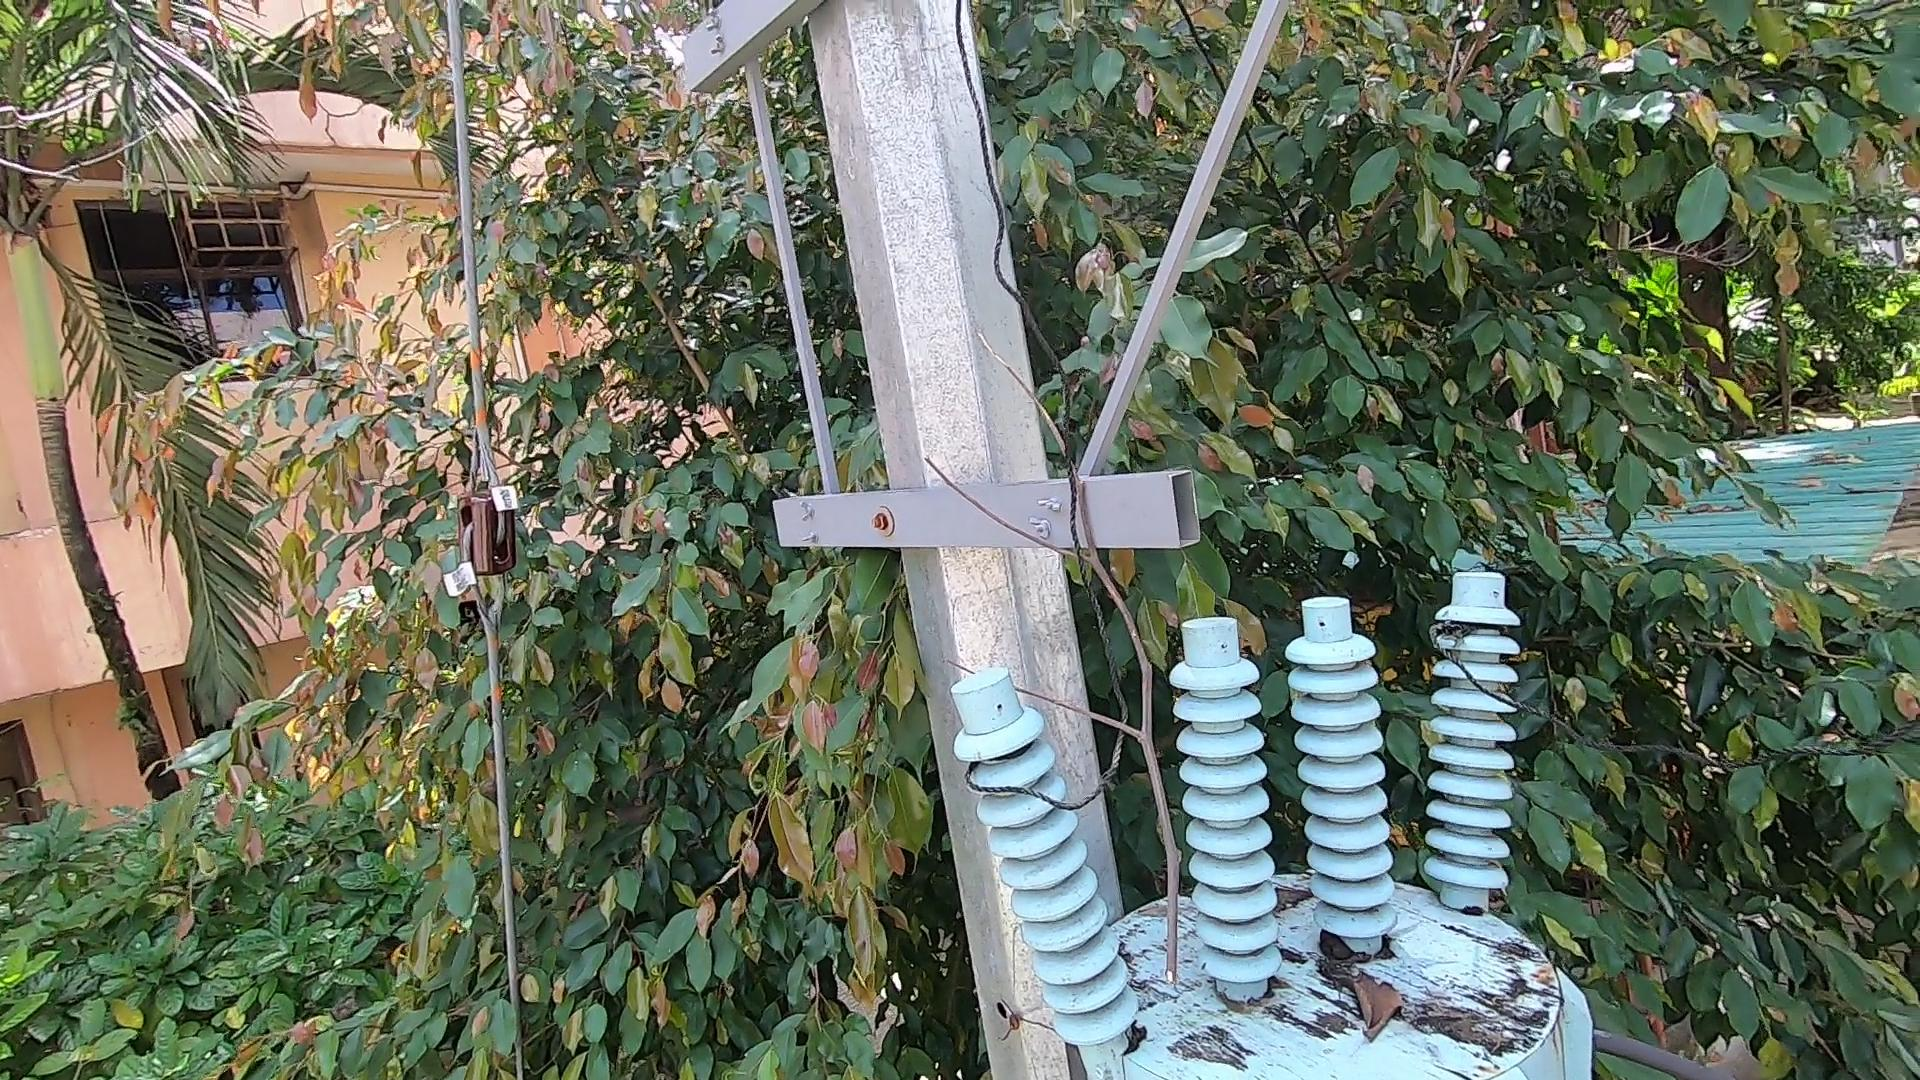leaf: (1335, 957, 1402, 1040), (1309, 930, 1383, 968)
tree branch: (911, 314, 1199, 992)
